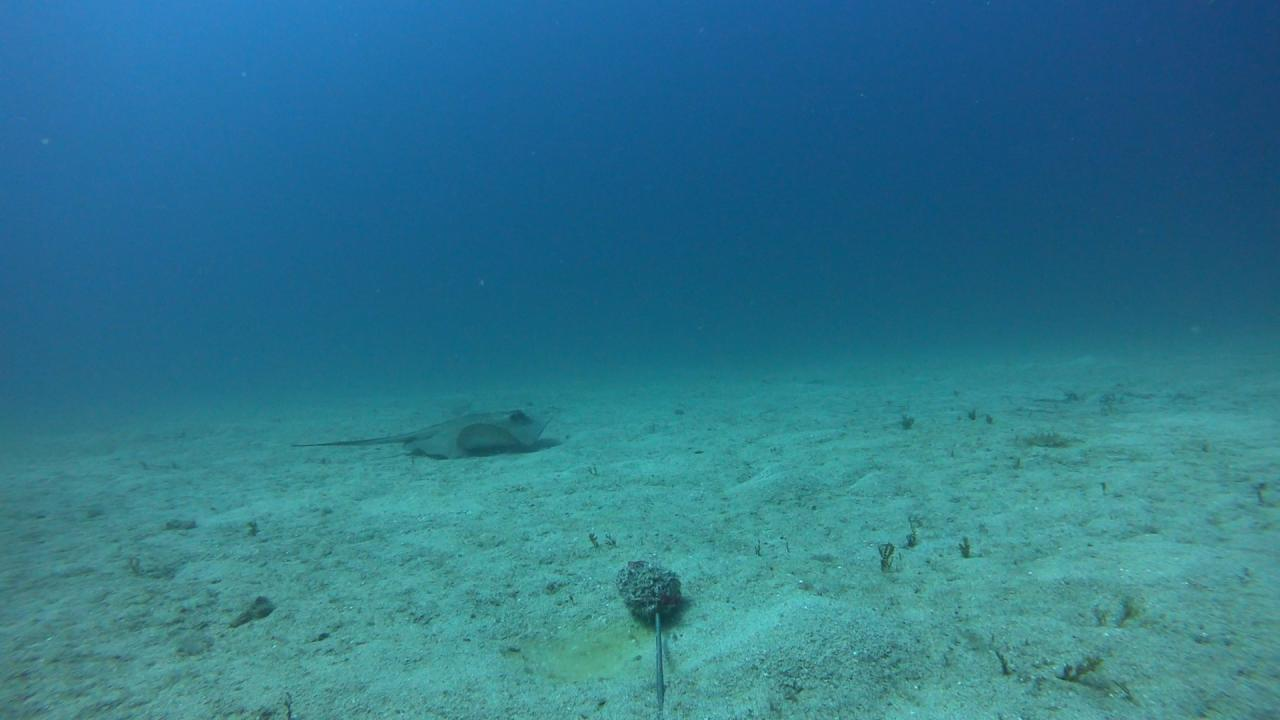dasyatis: (289, 405, 554, 460)
